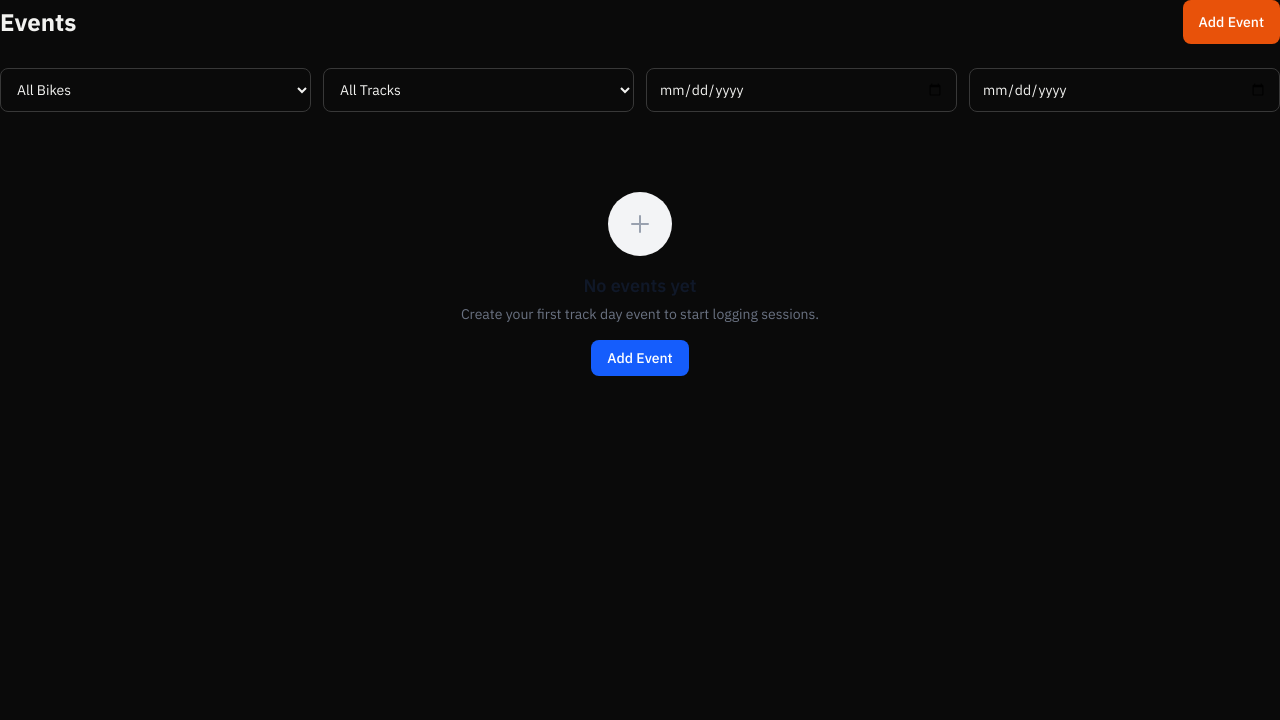
Events screen › opens add event form and validates required fields
Click the button with test id "add-event-button" at point(1231, 22), box [1182,0,1279,44]
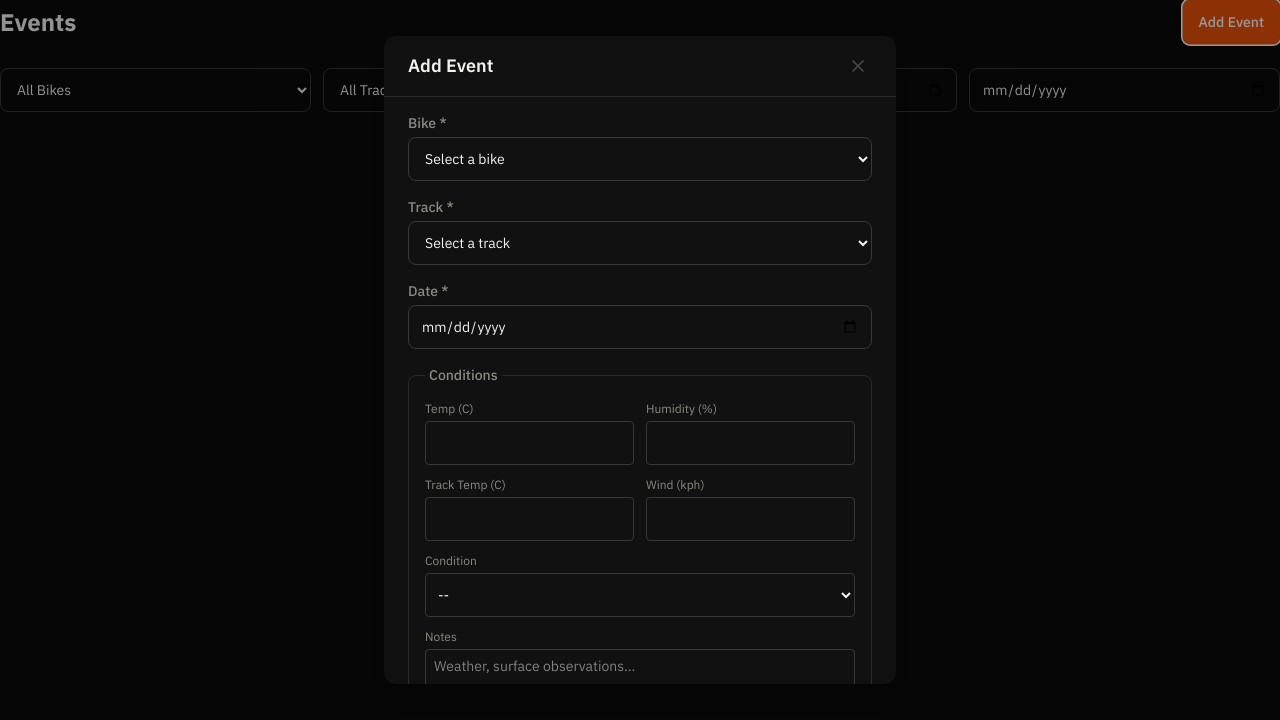
Expected: the form with test id "add-event-form" is shown, [408,113,872,684]
Expected: the dropdown labelled "Bike *" is shown, [408,137,872,181]
Expected: the dropdown labelled "Track *" is shown, [408,221,872,265]
